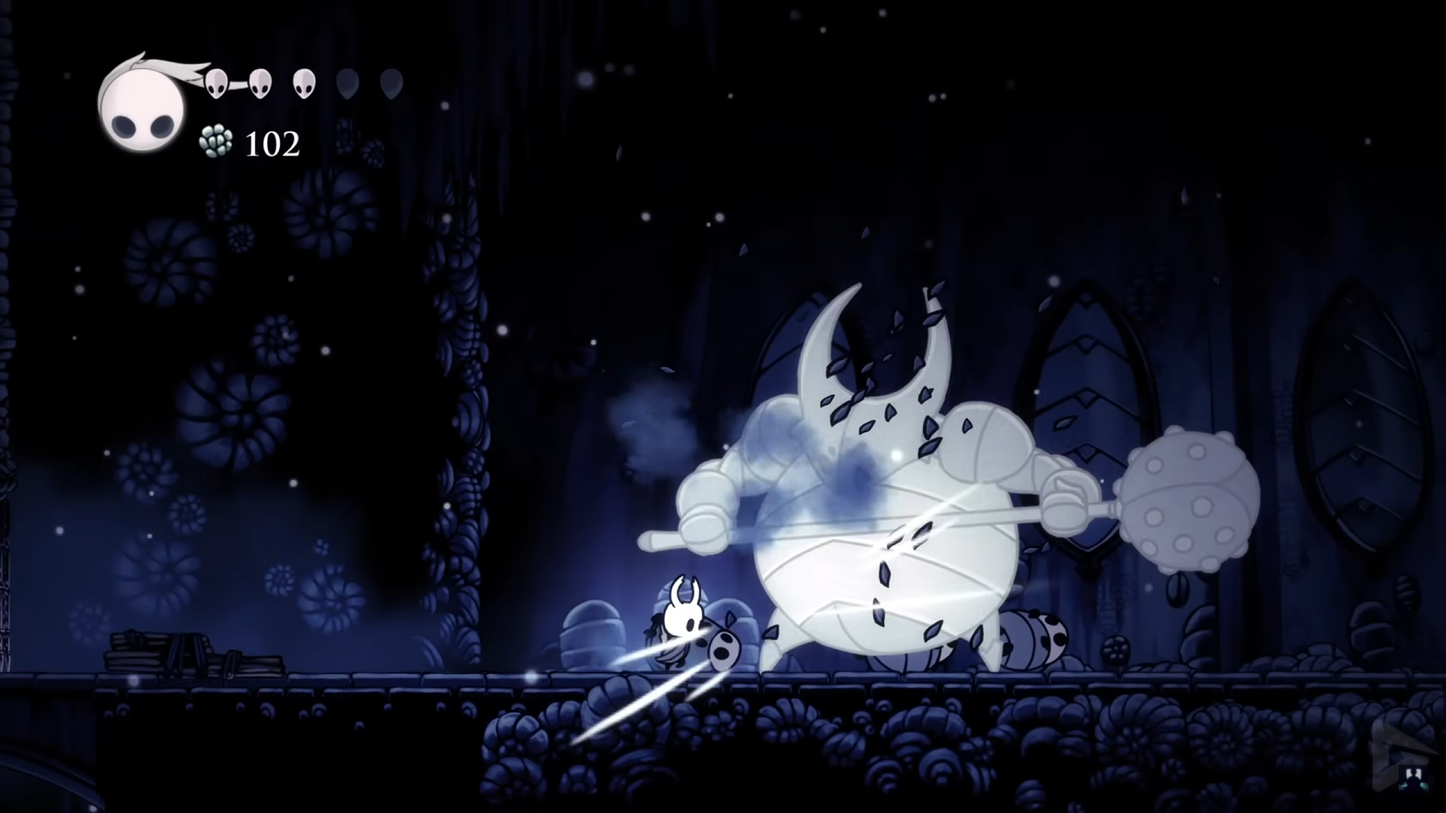HK: (653, 573, 707, 674)
